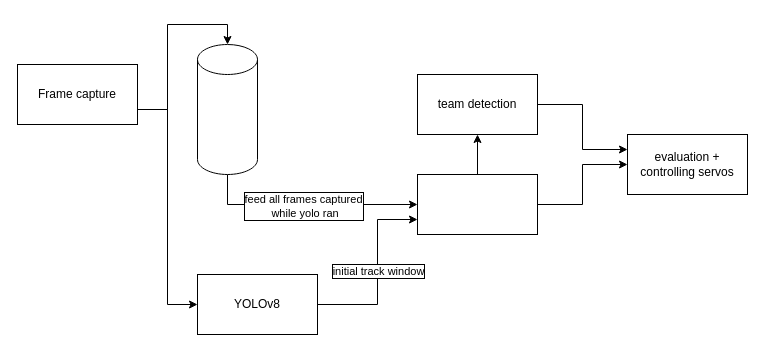
Image size: 765x352. Some labels were removed from this diagram. Each missing label, with the box of its shape:
Camshift: (416, 174, 538, 234)
frame buffer: (196, 44, 258, 174)
